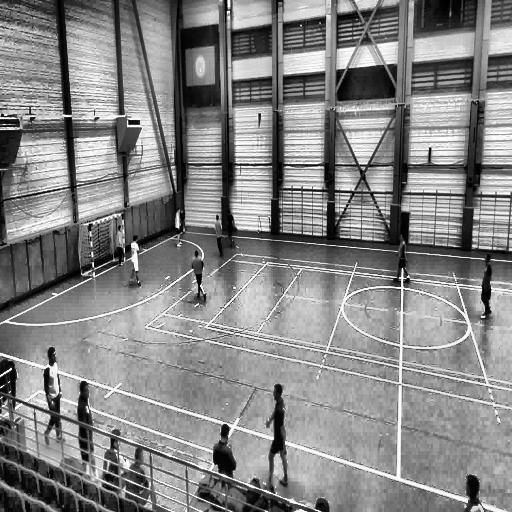player: (266, 386, 289, 490), (77, 381, 98, 480), (42, 348, 64, 437), (478, 254, 493, 320), (192, 249, 206, 302), (395, 232, 409, 284), (129, 236, 141, 287), (214, 215, 224, 258), (116, 225, 125, 267), (227, 208, 236, 248), (175, 208, 183, 247)
